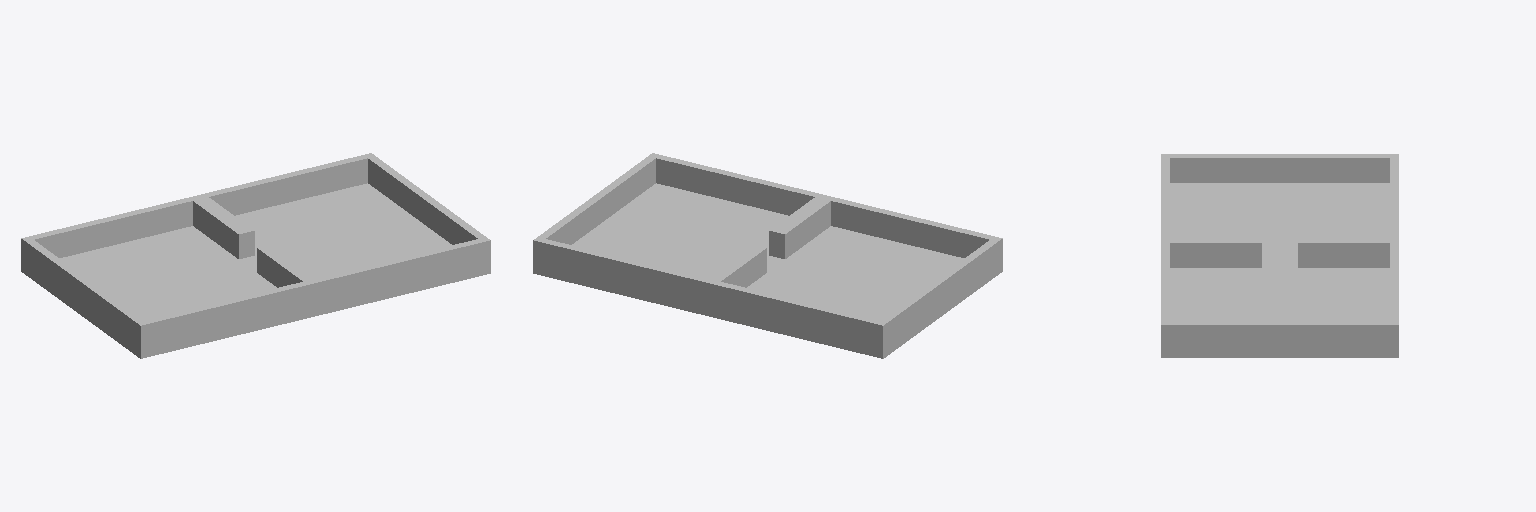
The model's file is dsda.obj.
3 renders of one model, left to right at view 1: azimuth 30°, elevation 25°; view 2: azimuth 150°, elevation 25°; view 3: azimuth 270°, elevation 25°, orthographic.
Parts seen in each view (by area): view 1: ground; view 2: ground; view 3: ground.
Boxes of the visible parts, x1,y1,x2,y2 form: ground: [21, 153, 490, 358]; ground: [533, 153, 1002, 358]; ground: [1161, 154, 1398, 357].
Bounding box in the file's own units: 44 × 4 × 26.